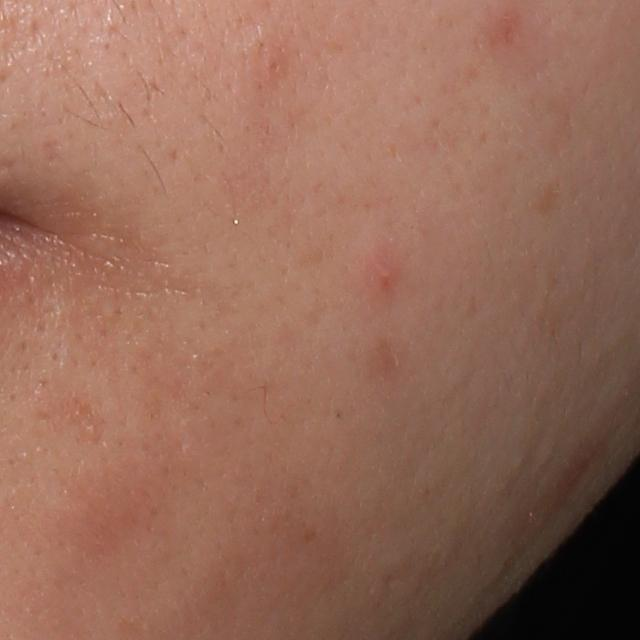papule: (371, 263, 397, 290)
